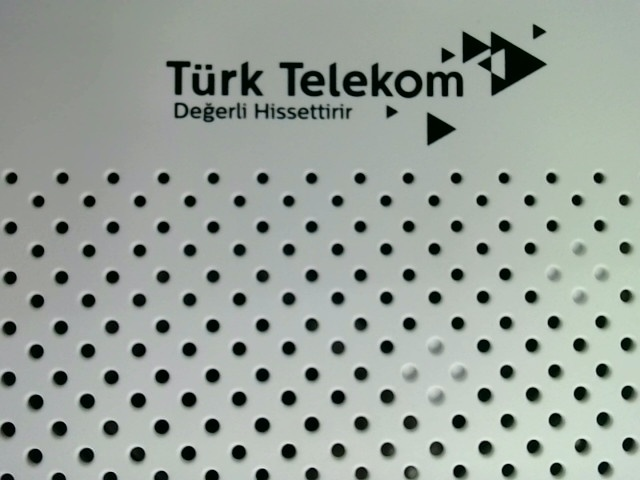AQ_TURKTelekom: (162, 18, 557, 149)
